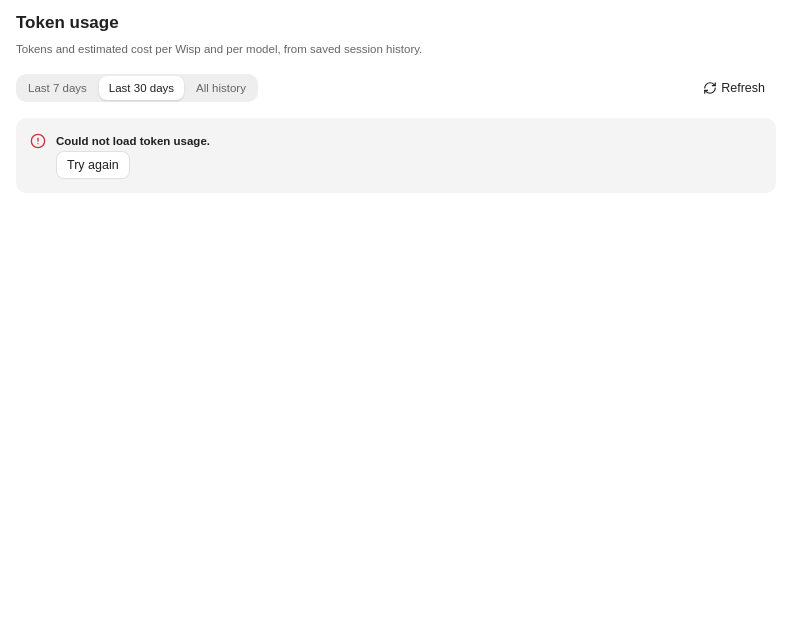
Test case: UsageSettingsSection › allows retry after failure and identifies incomplete history
Expected: the message shows "Could not load token usage.", [56,135,210,147]
Click the button "Try again" at (93, 165), box [56,151,130,179]
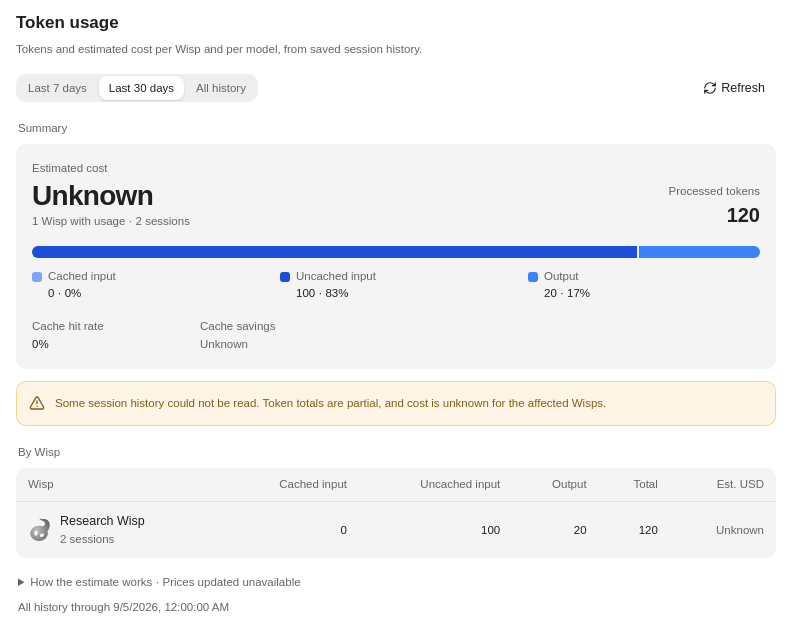
Now the text "Token totals are partial" is shown, box [55,397,606,409]
